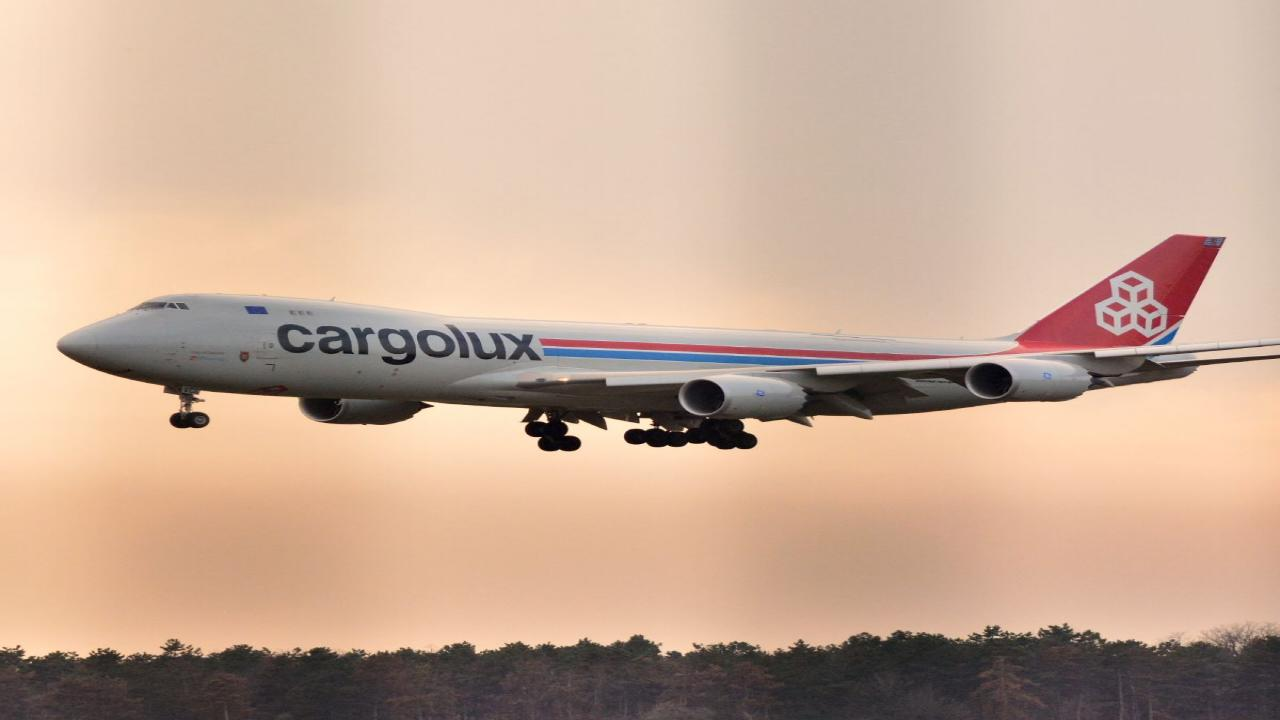Airplane: (26, 223, 1280, 459)
